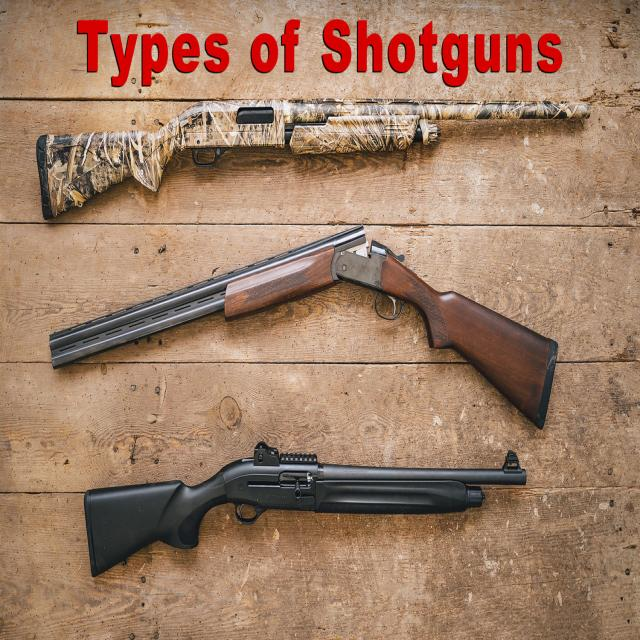Weapon: (45, 234, 578, 440), (29, 83, 610, 230), (70, 452, 543, 599)
